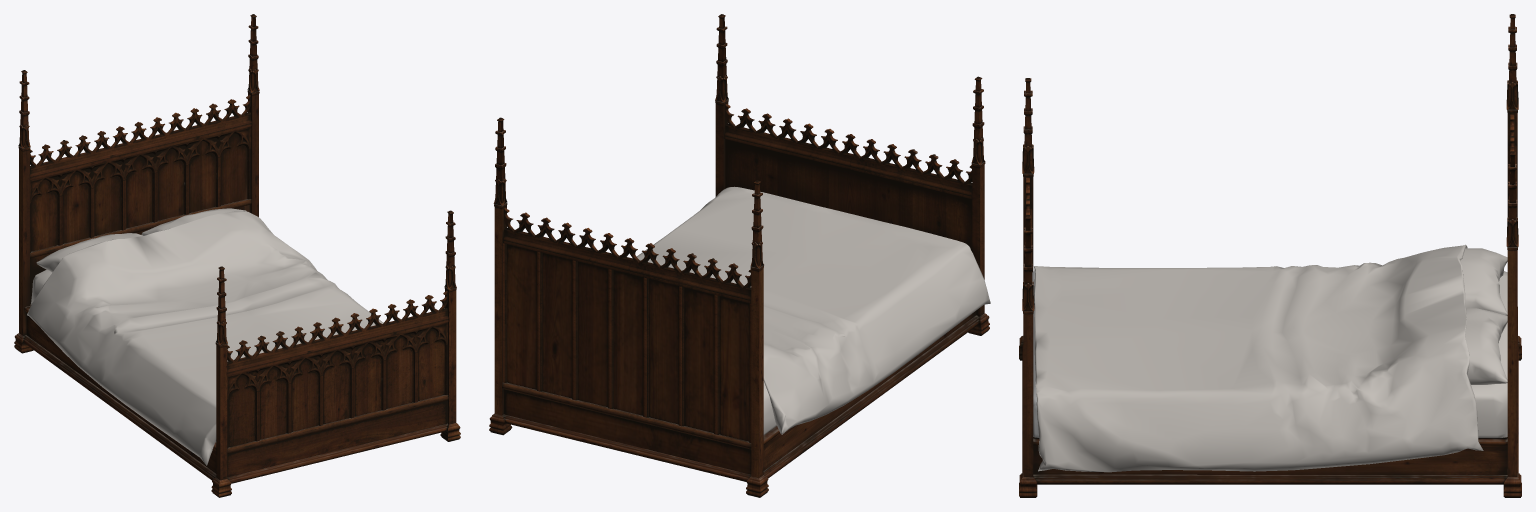
The model's file is f_bed_007.glb.
3 views of the same model, side by side, from view 1: azimuth 30°, elevation 25°; view 2: azimuth 150°, elevation 25°; view 3: azimuth 270°, elevation 25° (orthographic). The views are drawn at different scales.
Visible parts, largest first — view 1: GothicBed_01; view 2: GothicBed_01; view 3: GothicBed_01.
Part boxes in pixels (bbox=[...]): GothicBed_01: bbox=[14, 14, 460, 497]; GothicBed_01: bbox=[489, 14, 990, 497]; GothicBed_01: bbox=[1019, 14, 1521, 497].
Size of the model in its own units: 1.49 by 1.53 by 2.04.
1 material, 1 textured.
